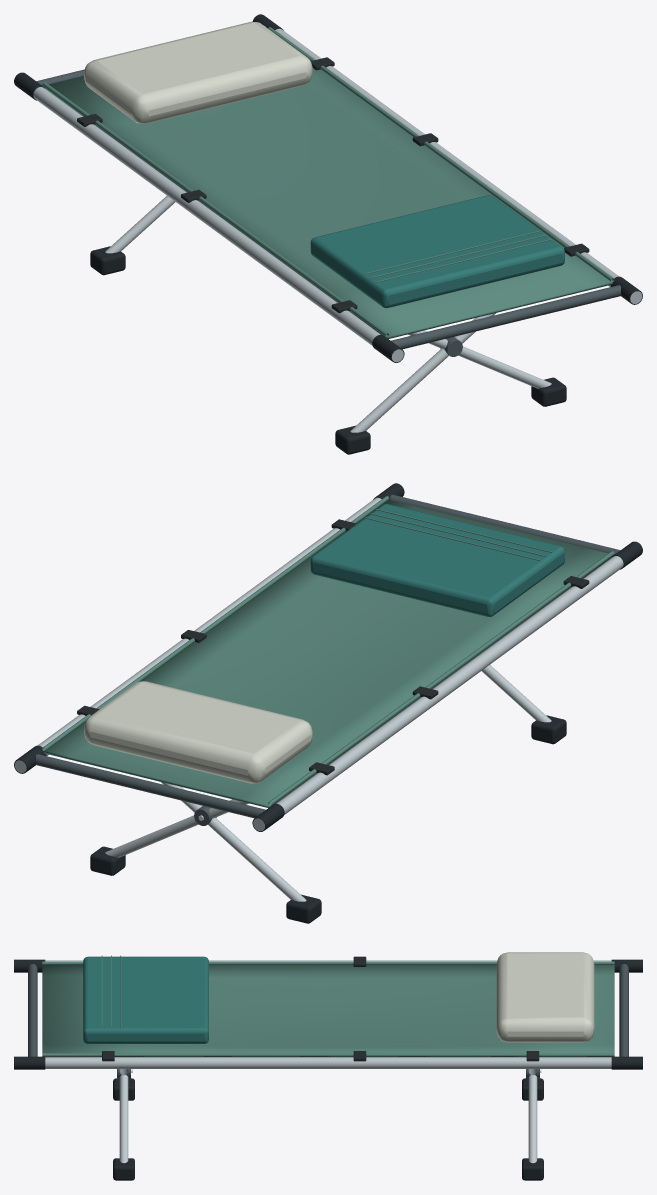
Rendered from folding_cot.glb.
3 renders of one model, top to bottom at view 1: azimuth 30°, elevation 25°; view 2: azimuth 150°, elevation 25°; view 3: azimuth 270°, elevation 25°, orthographic. The views are drawn at different scales.
Parts seen in each view (by area): view 1: folding_cot_render_mesh; view 2: folding_cot_render_mesh; view 3: folding_cot_render_mesh.
Part boxes in pixels (x1,y1,x2,y2): folding_cot_render_mesh: (14,14,642,454); folding_cot_render_mesh: (14,483,642,923); folding_cot_render_mesh: (14,952,642,1180).
Size of the model in its own units: 0.772 by 0.5305 by 2.
